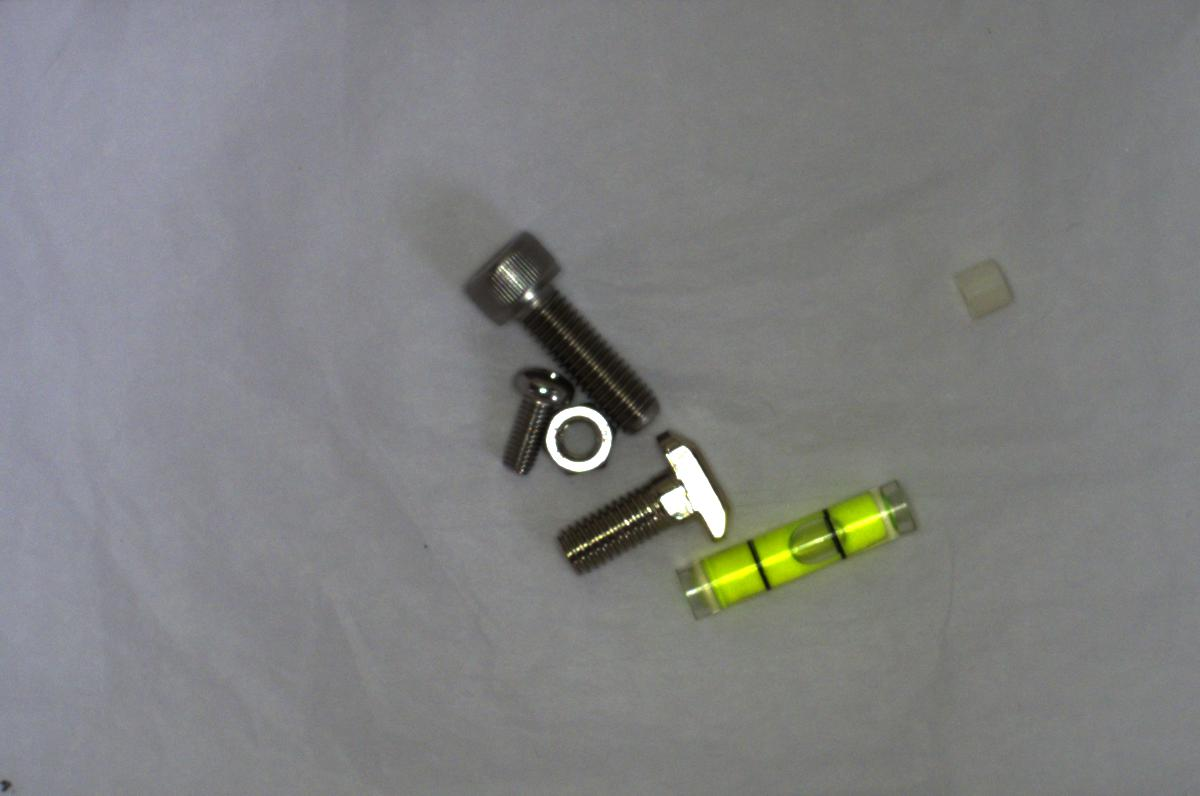Hexagon nut: (545, 401, 618, 479)
Hexagon screw: (465, 226, 661, 433)
Horizontal bubble: (660, 473, 925, 621)
Plastic cushion pillar: (947, 249, 1028, 329)
Round head screw: (495, 365, 566, 480)
T-shaped screw: (535, 429, 730, 572)
